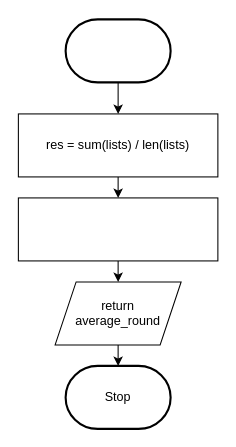
The diagram is 236 pixels wide and 447 high, and some of its shapes have lost their labels. Here are the shapes that lost their labels. From the top down, the centre of each, then its label:
point (117, 50): Start
point (117, 229): average_round = round(res, 1)
